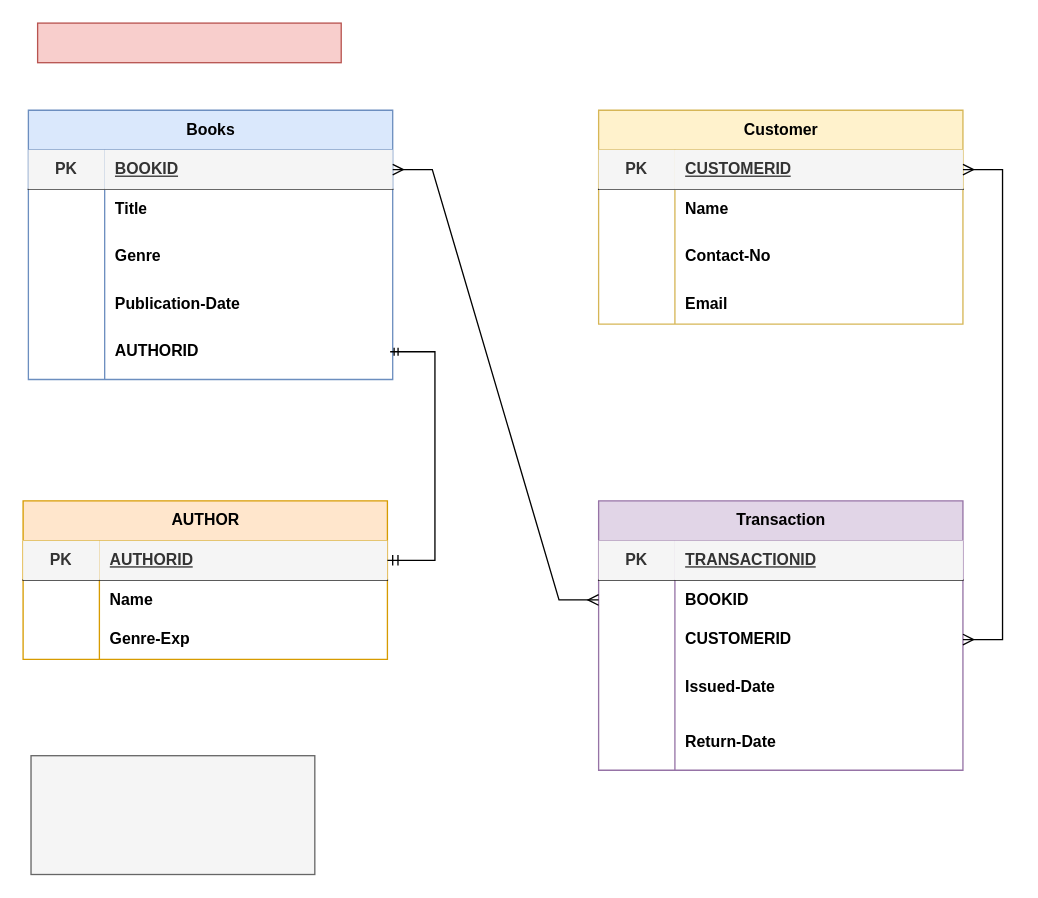
Image size: 1038x898. Some labels were removed from this diagram. Each missing label, with the centre of its shape:
"[ PK - Primary Key ]" goes at (188,42).
"Name: Himanshu Baliyan, Github: himanshubaliyan7" goes at (172,814).
